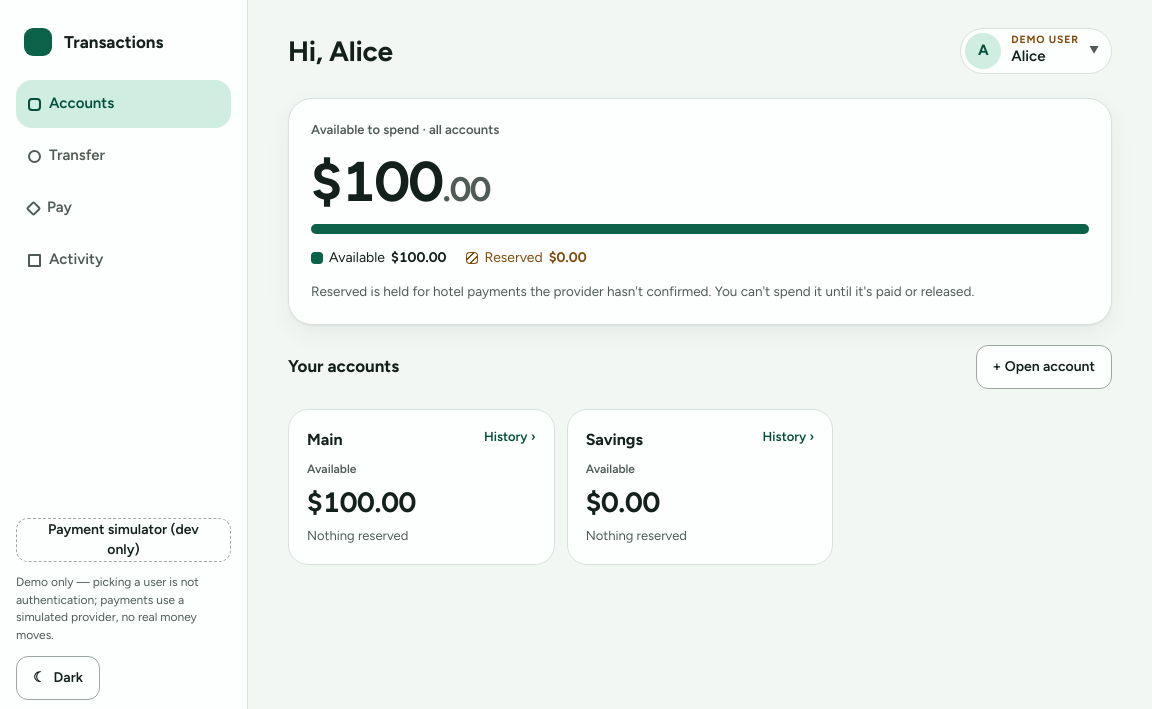
Calm wallet UI › 8: a failed refresh shows the non-blocking banner with Retry and keeps the last data
expect the heading "Hi, Alice" is shown: met, box [288,31,393,71]
expect the element named "Balance summary" is shown: met, box [288,98,1112,325]
Click the button "Pay" at (124, 208), box [16,184,231,232]
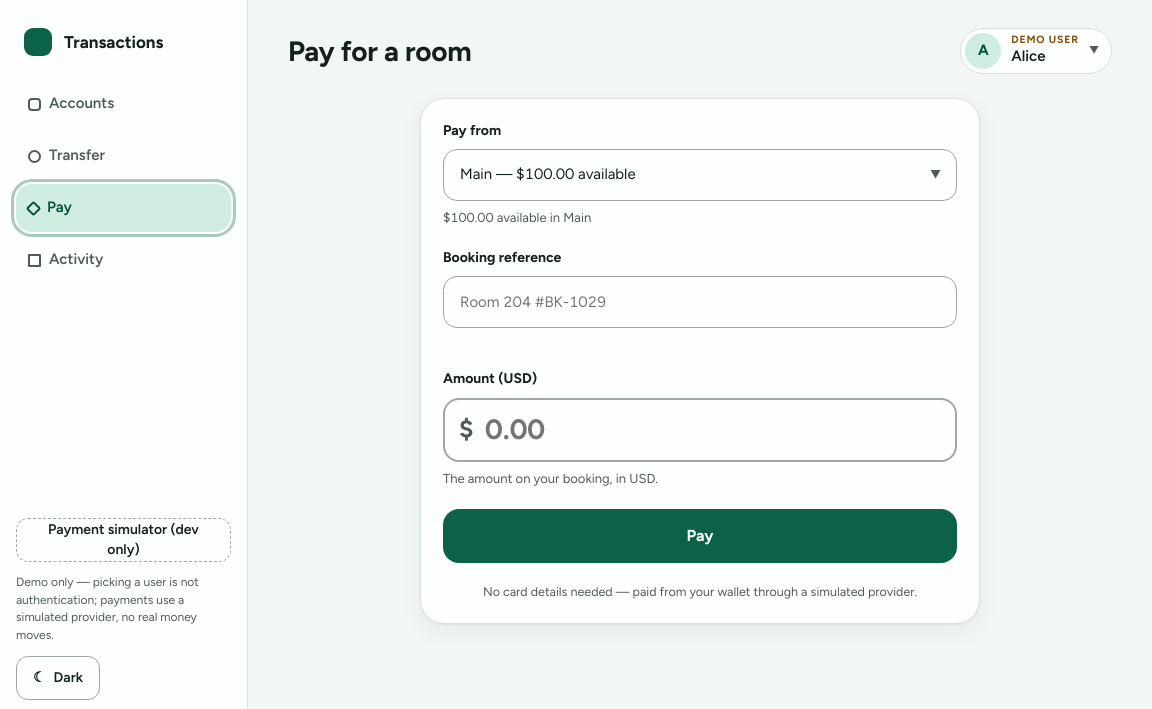
Type "Room 204" into the field labelled "Booking reference" at (700, 302), box [443,276,957,328]
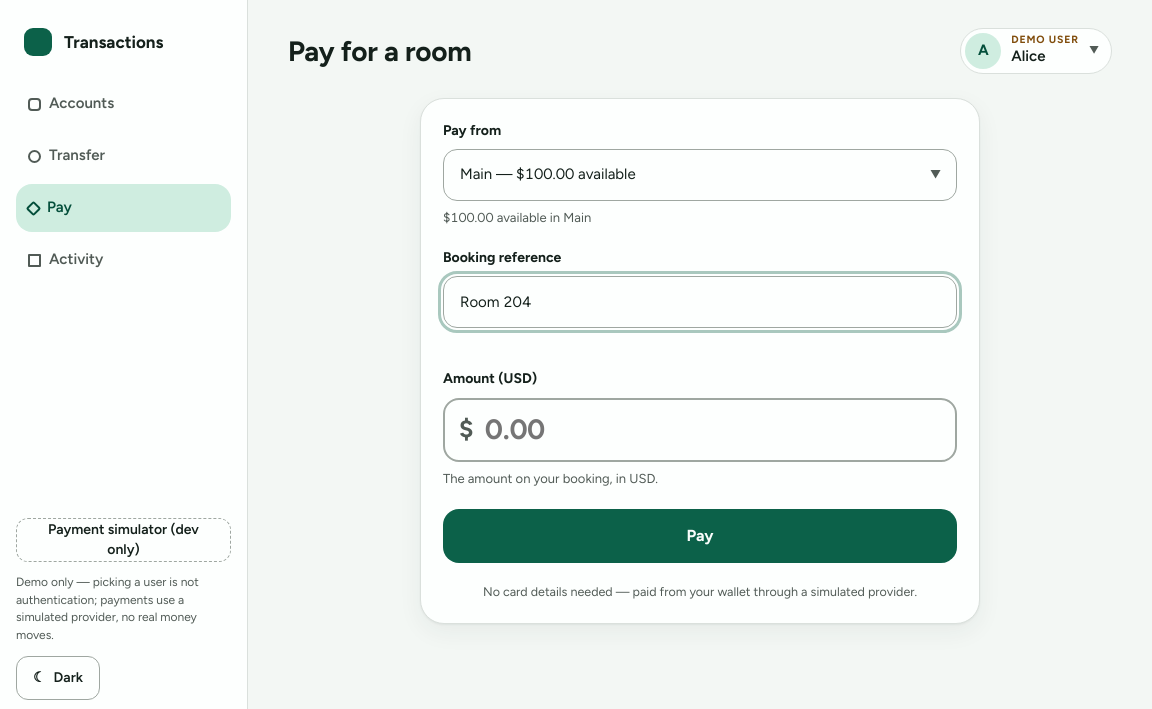
Type "5" into the field labelled "Amount (USD)" at (700, 430), box [443,398,957,462]
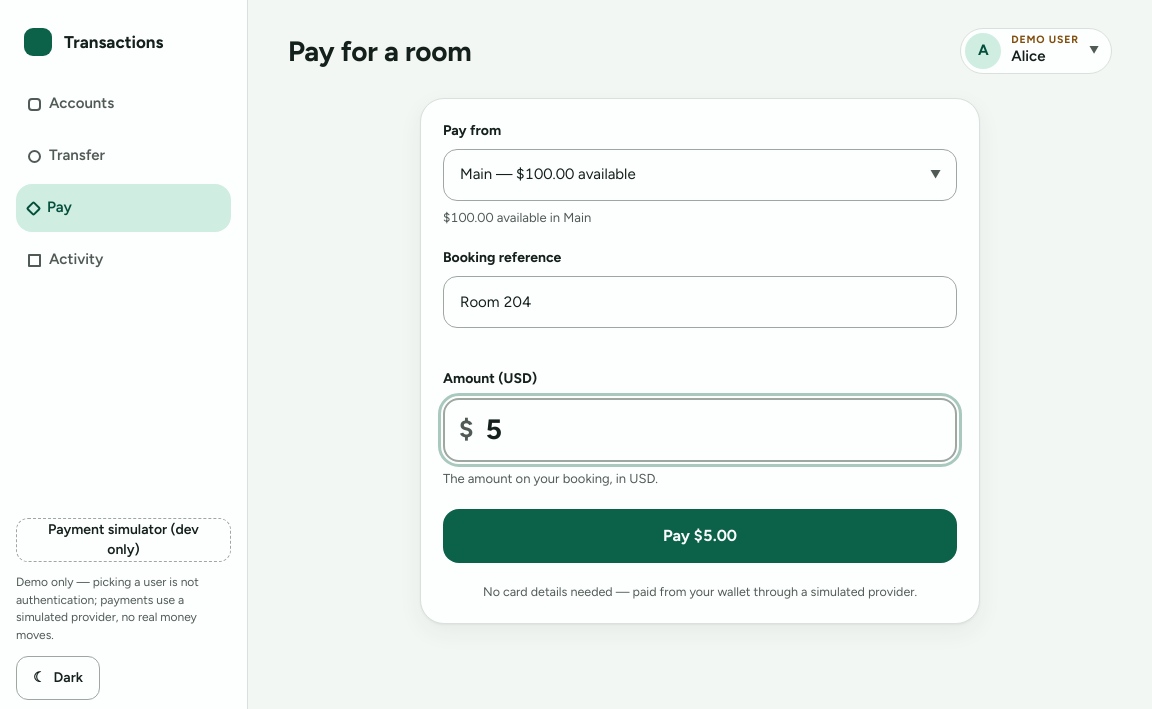
Click the button "Pay $5.00" at (700, 536), box [443,509,957,563]
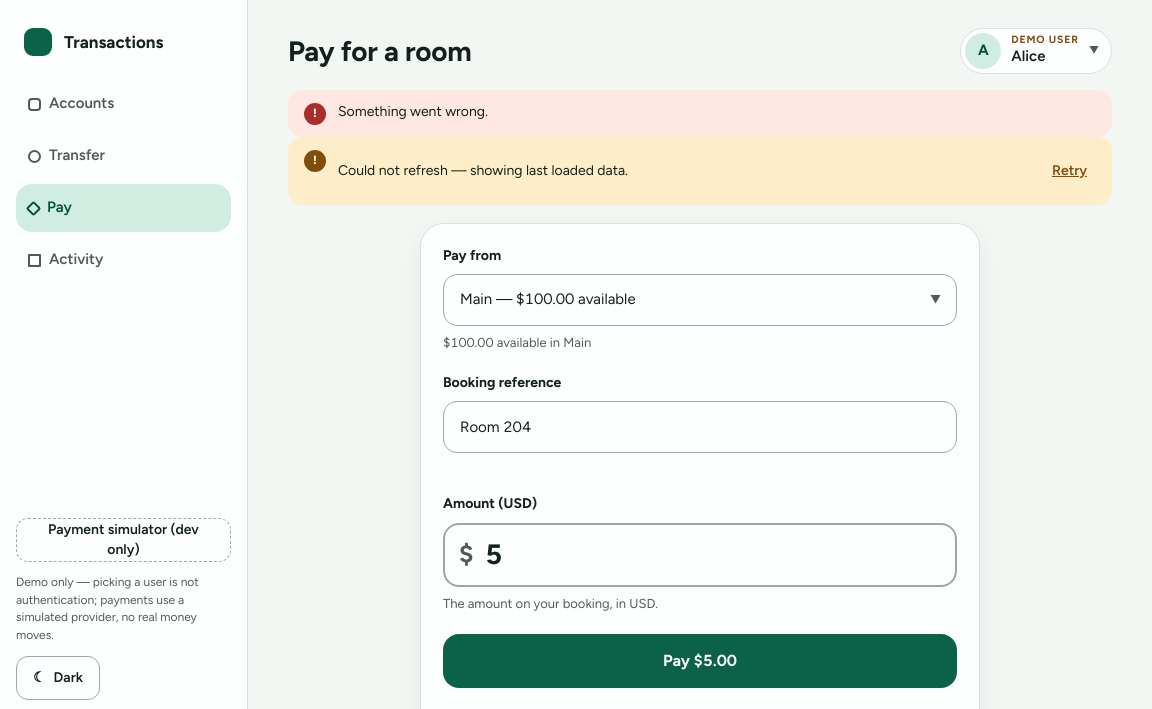
expect the text "Could not refresh — showing last loaded data." is shown: met, box [338,162,628,179]
Click the button "Accounts" at (124, 104), box [16,80,231,128]
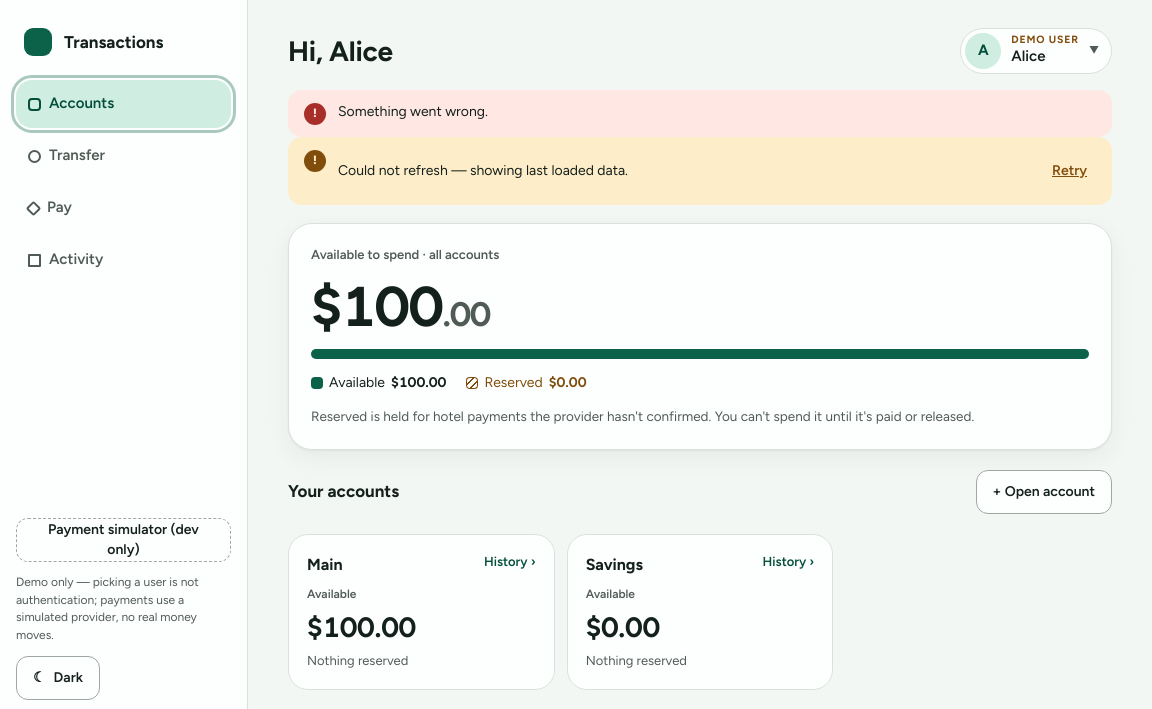
expect the text "$100.00" below "Available to spend · all accounts" is shown: met, box [391,374,446,391]
Click the button "Retry" at (1070, 171), box [1043,149,1096,193]
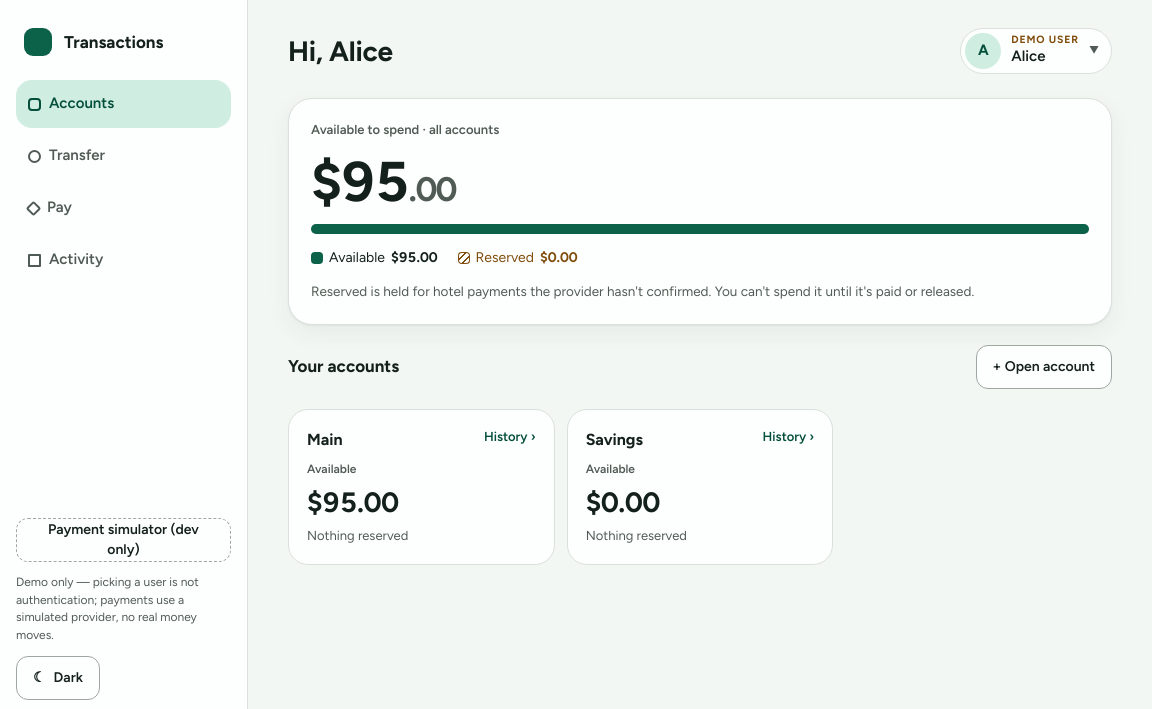
expect the text "$95.00" below "Available to spend · all accounts" is shown: met, box [391,249,438,266]
expect the text "Could not refresh — showing last loaded data." is gone: met
